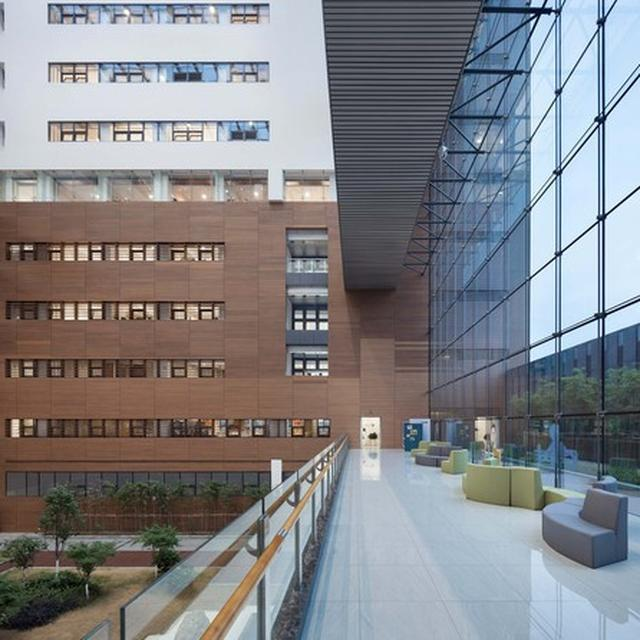building: (0, 0, 428, 531), (404, 4, 640, 530)
